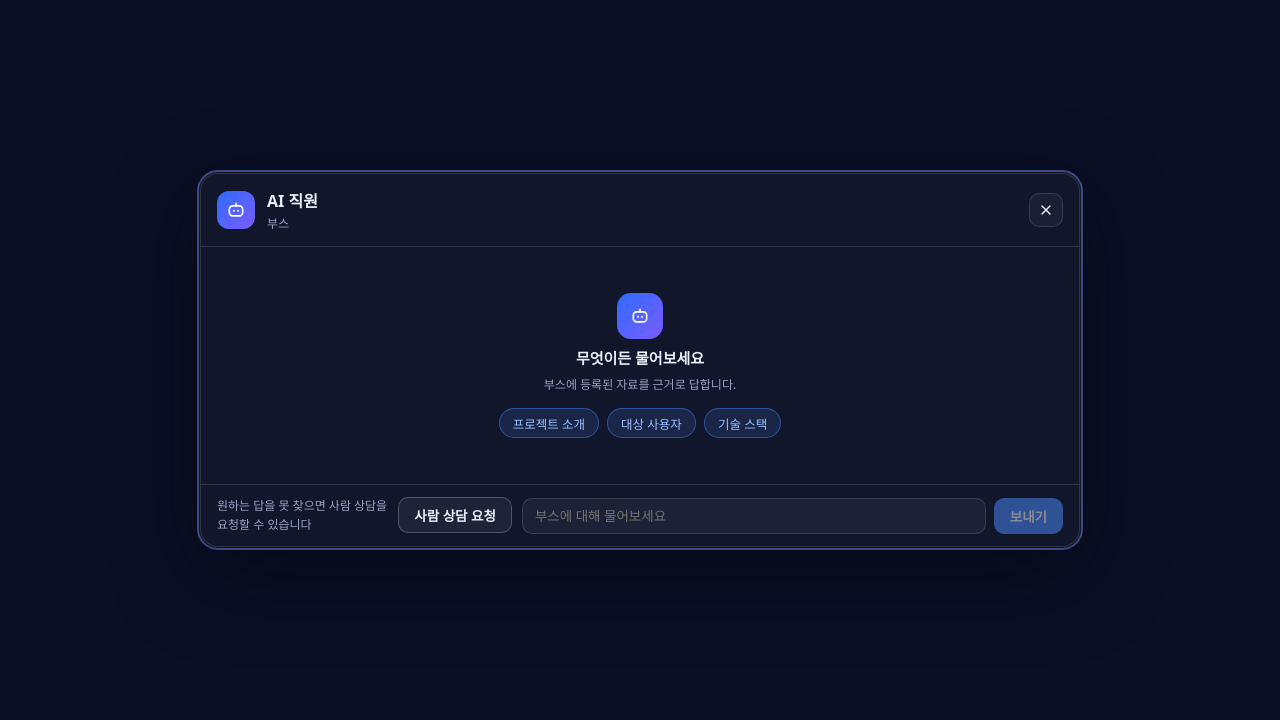
Scenario: AiChatOverlay 실서버 결선·SSE 렌더링 › token 누적 답변을 done 뒤 표시하고 출처 문서명은 화면에 그리지 않는다
Click the button "프로젝트 소개": (549, 423) [499,408,599,438]
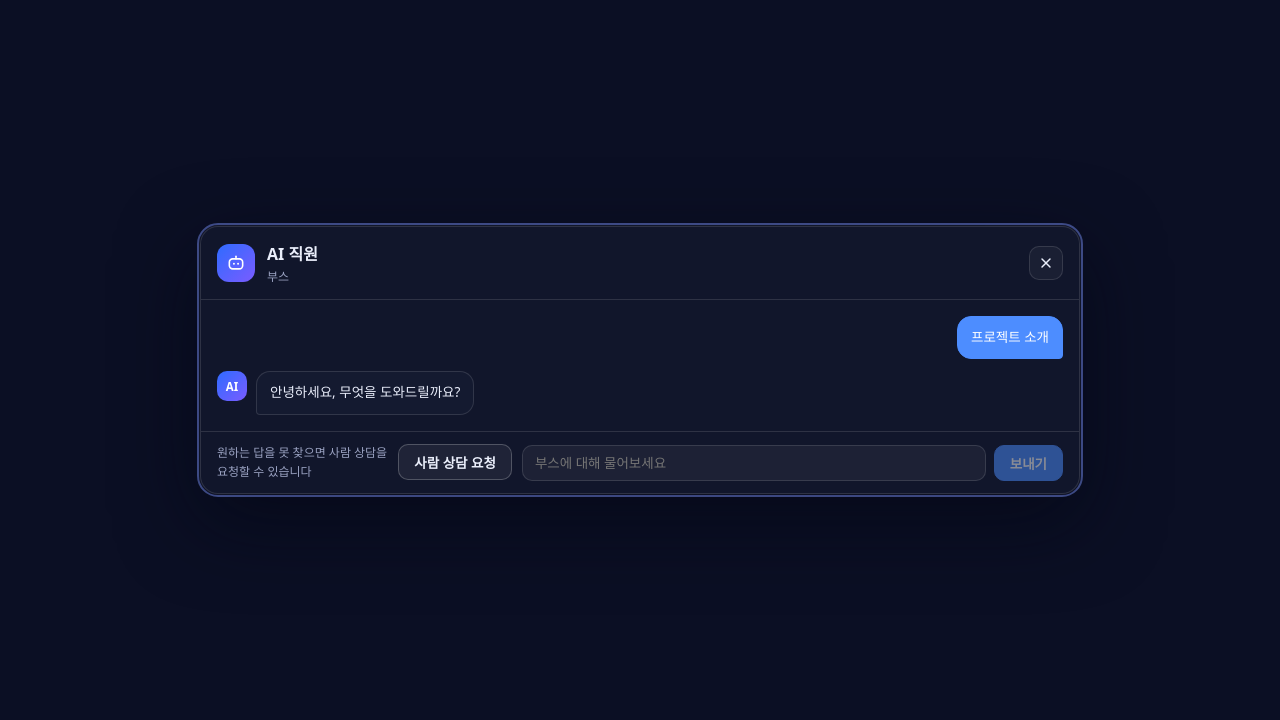
Expected: the text "안녕하세요, 무엇을 도와드릴까요?" is shown, [270,382,460,404]
